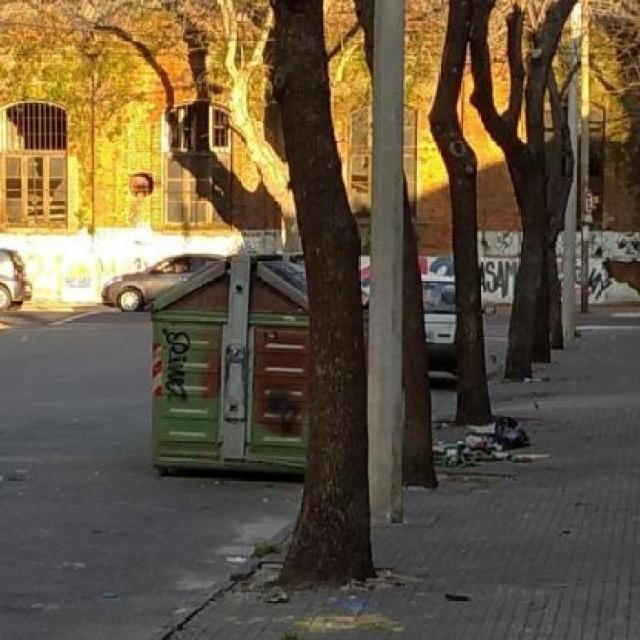garbage: (418, 413, 570, 503), (208, 549, 310, 616)
